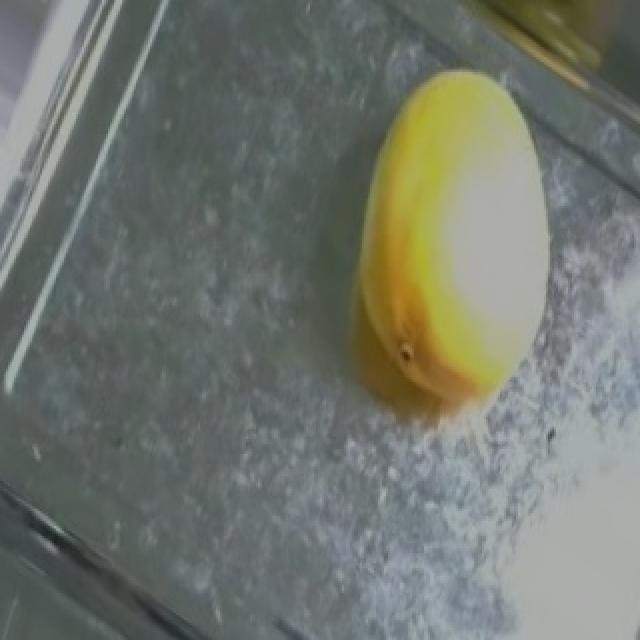fruit: (322, 32, 630, 437)
